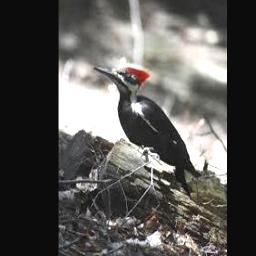Woodpecker: (94, 64, 201, 192)
